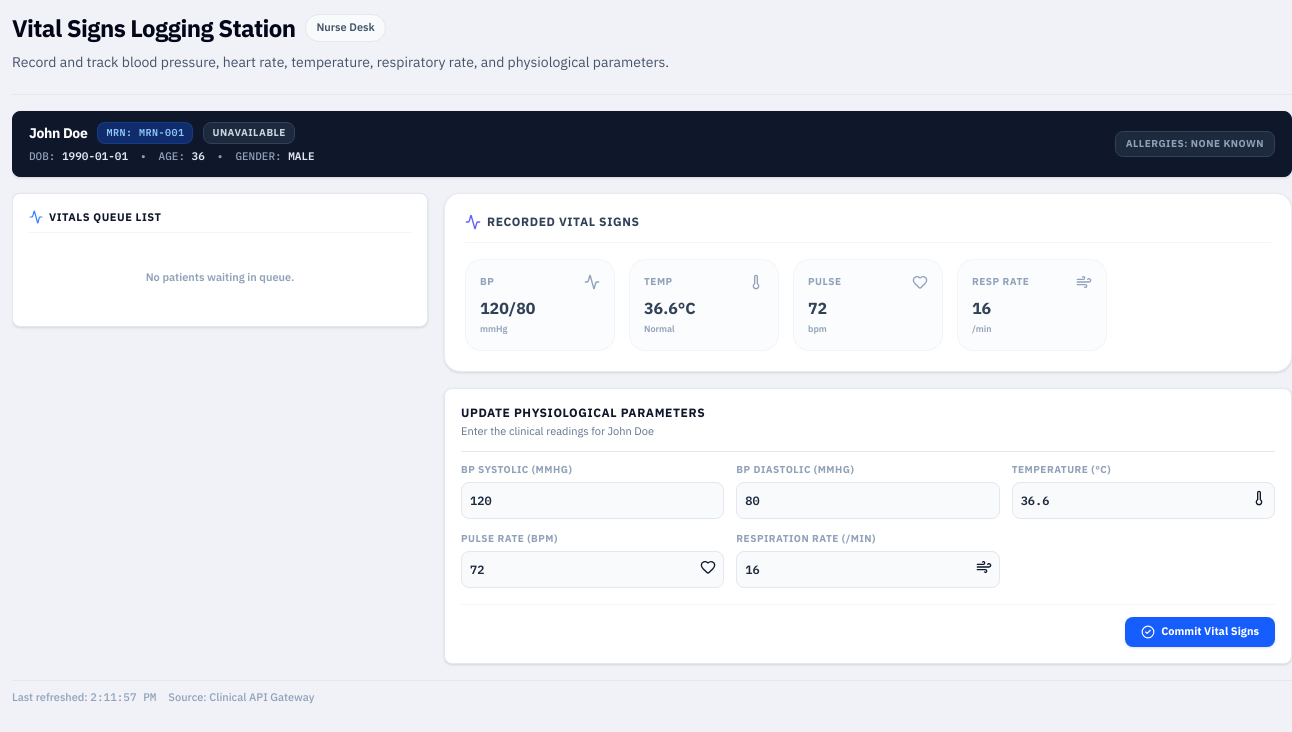
Test: NurseVitalsPage Save Mutation › shows Access Restricted when save returns 403 Forbidden
Check: the heading "Update Physiological Parameters" is shown, box 461,405 -> 705,420
Click the button "Commit Vital Signs": (1200, 632) 1125,617 -> 1275,647
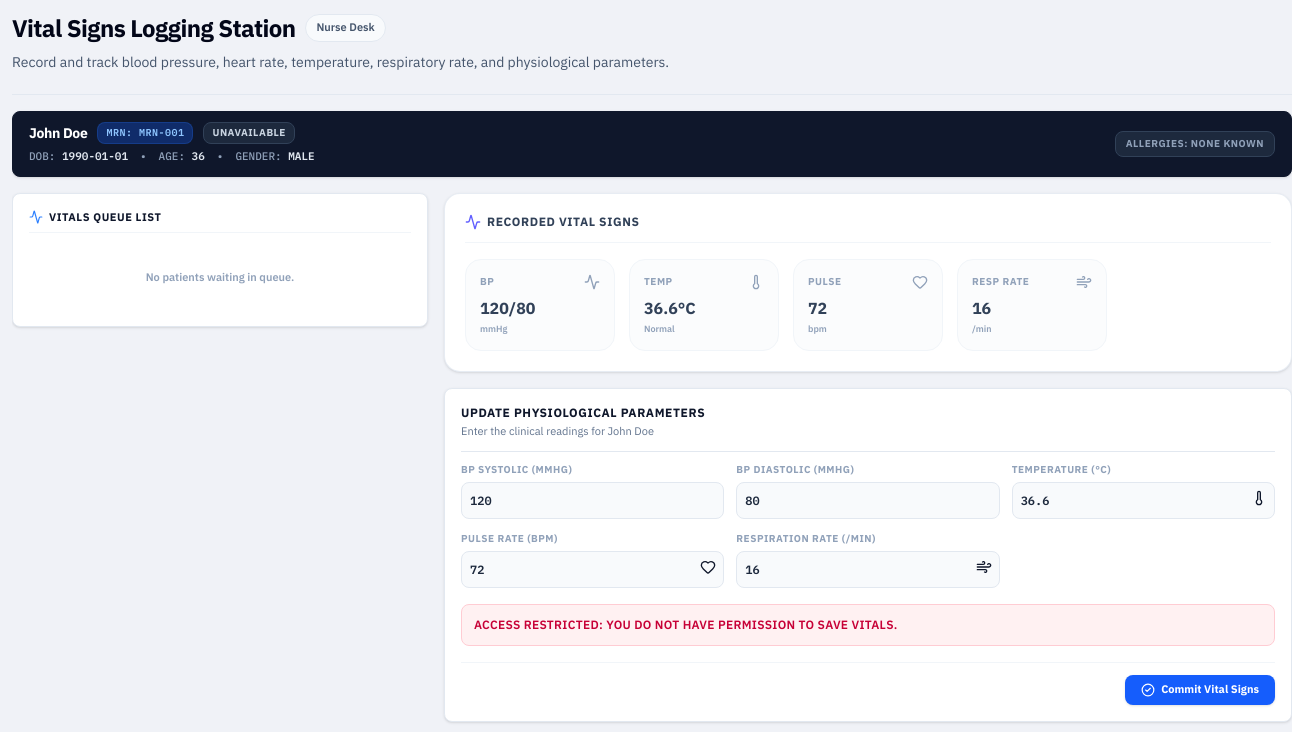
Check: the text "Access Restricted" is shown, box 474,617 -> 898,632
